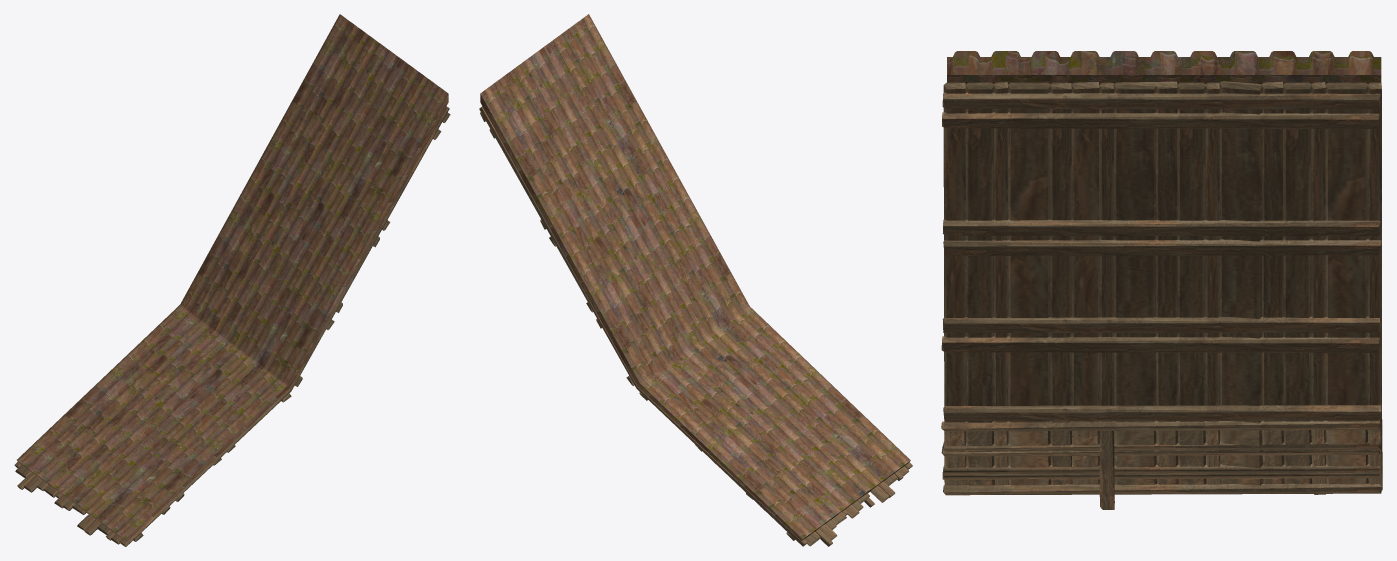
The model's file is SM_roof_02_base_01.fbx.
3 renders of one model, left to right at view 1: azimuth 30°, elevation 25°; view 2: azimuth 150°, elevation 25°; view 3: azimuth 270°, elevation 25°, orthographic. The views are drawn at different scales.
Visible parts, largest first — view 1: SM_roof_02_base_01_LOD0; view 2: SM_roof_02_base_01_LOD0; view 3: SM_roof_02_base_01_LOD0.
Boxes of the visible parts, <box> form: SM_roof_02_base_01_LOD0: <box>14,14,450,546</box>; SM_roof_02_base_01_LOD0: <box>479,14,912,546</box>; SM_roof_02_base_01_LOD0: <box>941,51,1382,509</box>.
Size of the model in its own units: 718 by 407 by 785.
2 materials, 2 textured.
